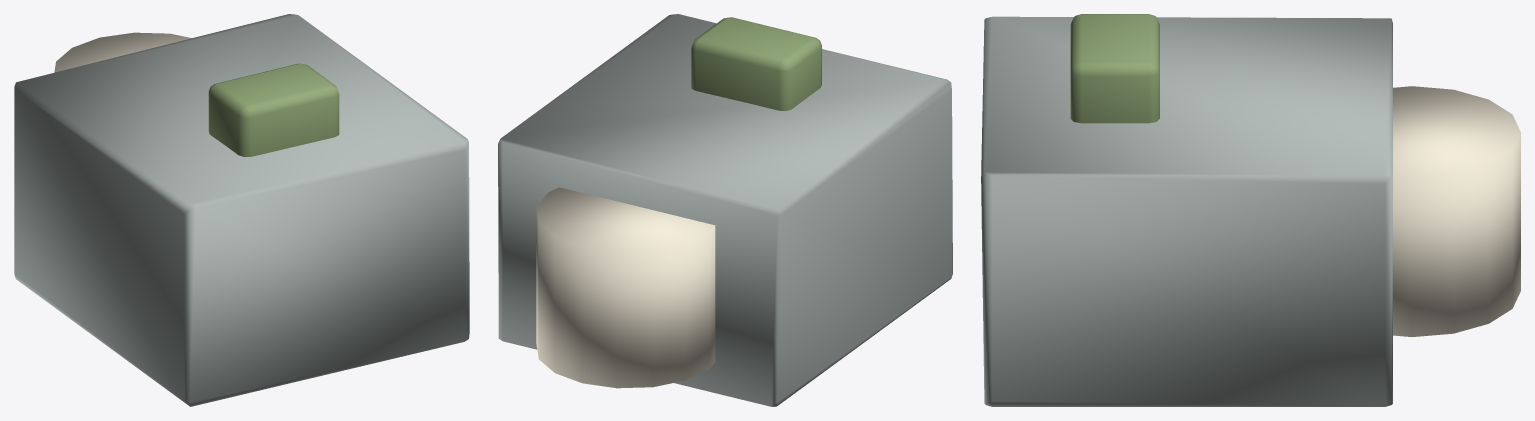
The model's file is equipment_juice_machine.glb.
The picture shows the model from 3 angles, left to right: view 1: azimuth 30°, elevation 25°; view 2: azimuth 150°, elevation 25°; view 3: azimuth 270°, elevation 25°; orthographic projection. The views are drawn at different scales.
Parts seen in each view (by area): view 1: Machine, Output, Tank; view 2: Machine, Tank, Output; view 3: Machine, Tank, Output.
Part boxes in pixels (x1,y1,x2,y2): Machine: (14, 14, 469, 406); Output: (208, 63, 339, 156); Tank: (54, 32, 191, 72); Machine: (498, 14, 952, 406); Tank: (536, 187, 715, 388); Output: (691, 17, 821, 110); Machine: (981, 16, 1392, 406); Tank: (1393, 86, 1520, 337); Output: (1070, 14, 1159, 123).
Bounding box in the file's own units: 1.2 × 1.01 × 1.69.
